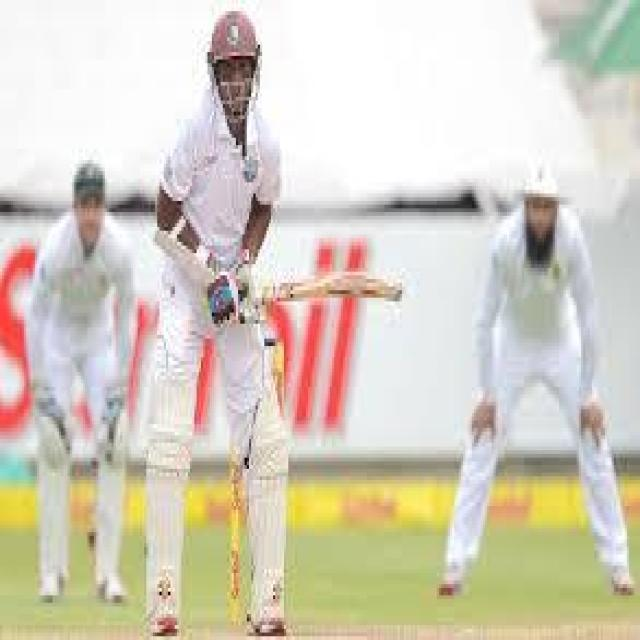bat: (268, 277, 405, 301)
toe: (389, 279, 404, 305)
